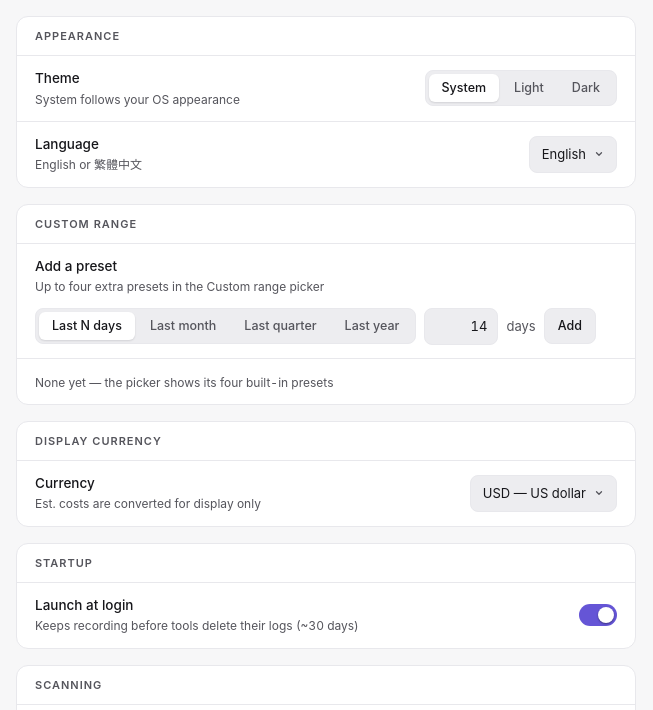
it: SettingsPage › language switch re-renders visible strings in Traditional Chinese
The image size is (653, 710).
Click the button "English" at (573, 154), box x1=529 y1=136 x2=617 y2=173
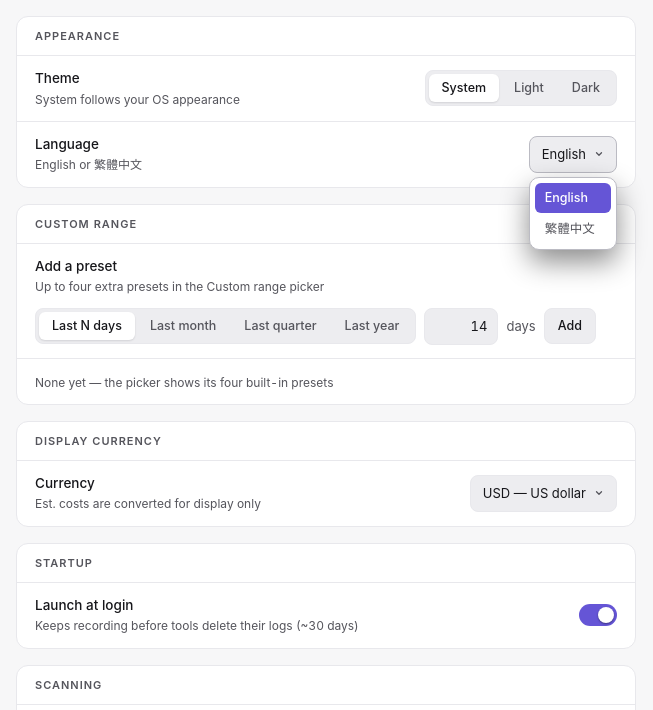
Click the menu item "繁體中文" at (573, 229), box x1=535 y1=214 x2=611 y2=244
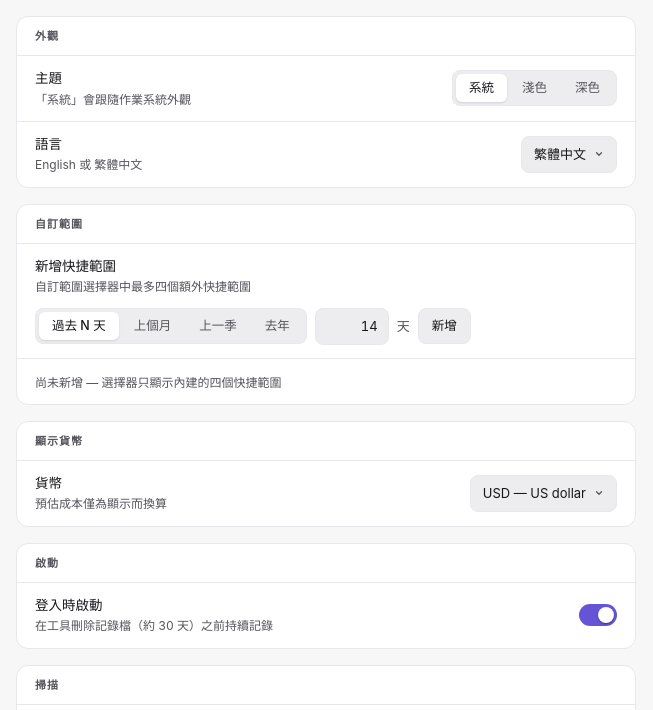
Result: the text "外觀" is shown at x1=35 y1=29 x2=59 y2=43
Result: the text "主題" is shown at x1=35 y1=70 x2=62 y2=86
Result: the text "Appearance" is gone
